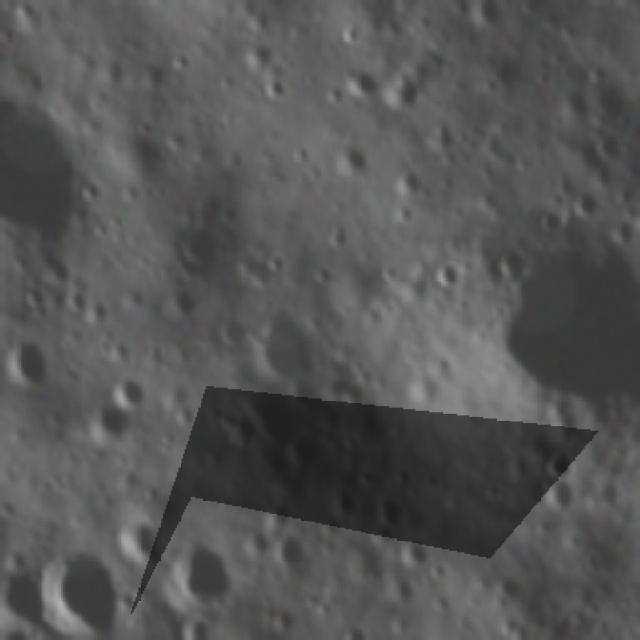crater: (228, 368, 320, 474), (41, 546, 125, 640), (253, 299, 322, 384), (181, 530, 241, 612), (167, 217, 224, 280), (3, 337, 55, 392), (112, 514, 160, 569), (107, 373, 155, 415), (490, 241, 535, 285), (392, 532, 437, 576), (330, 141, 373, 187), (269, 533, 313, 576), (215, 307, 253, 355), (425, 256, 470, 296), (327, 475, 364, 523), (392, 162, 430, 208), (160, 288, 202, 326), (538, 444, 578, 482), (376, 497, 416, 534), (344, 65, 382, 103), (492, 566, 528, 606), (569, 189, 608, 225), (588, 128, 626, 164), (258, 75, 290, 100), (166, 44, 192, 74)
